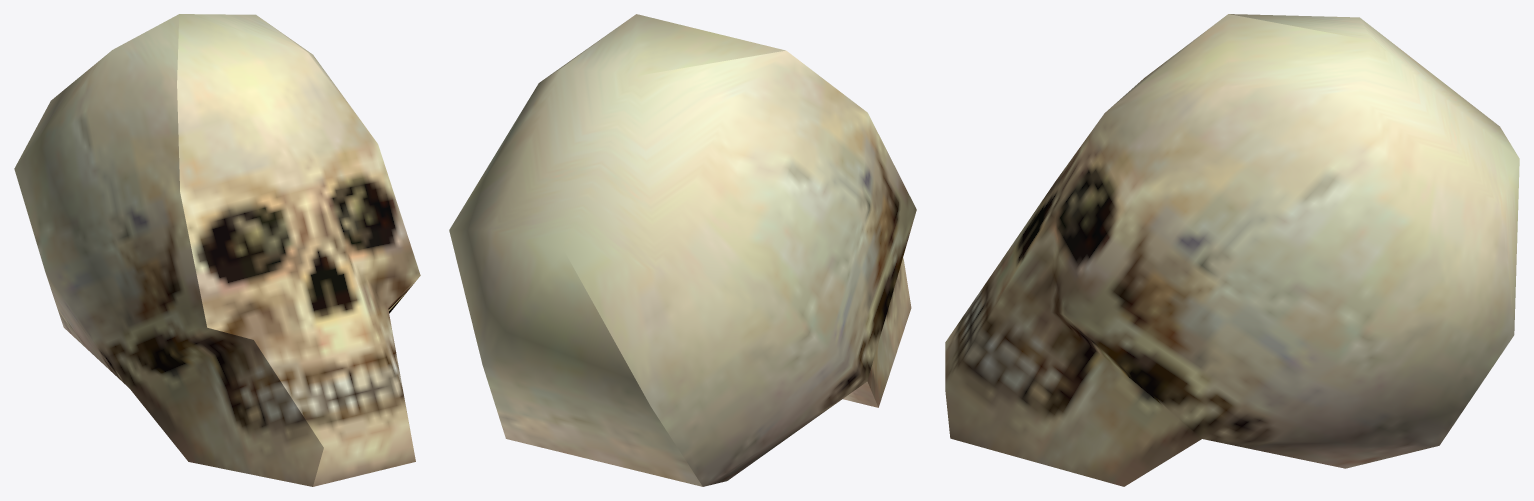
Rendered from d_sk_skl1.glb.
The picture shows the model from 3 angles, left to right: view 1: azimuth 30°, elevation 25°; view 2: azimuth 150°, elevation 25°; view 3: azimuth 270°, elevation 25°; orthographic projection. The views are drawn at different scales.
Parts seen in each view (by area): view 1: d_sk_skl1-col; view 2: d_sk_skl1-col; view 3: d_sk_skl1-col.
Boxes of the visible parts, x1,y1,x2,y2 form: d_sk_skl1-col: [14, 14, 420, 486]; d_sk_skl1-col: [449, 14, 916, 486]; d_sk_skl1-col: [945, 14, 1519, 486].
Size of the model in its own units: 0.1592 by 0.1757 by 0.2335.
Materials: 1 (1 with a texture image).
